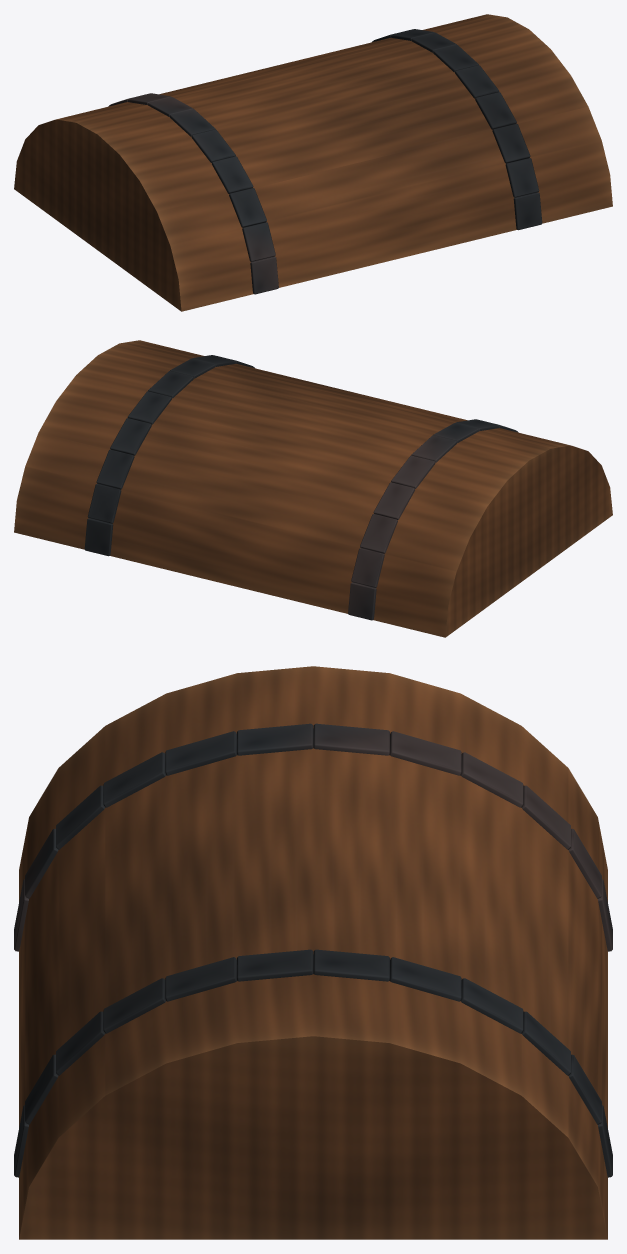
Rendered from Furn_Dun_Chest_Lid.fbx.
The picture shows the model from 3 angles, top to bottom: view 1: azimuth 30°, elevation 25°; view 2: azimuth 150°, elevation 25°; view 3: azimuth 270°, elevation 25°; orthographic projection. The views are drawn at different scales.
Visible parts, largest first — view 1: Furn_Dun_Chest_Lid; view 2: Furn_Dun_Chest_Lid; view 3: Furn_Dun_Chest_Lid.
Boxes of the visible parts, x1=… form: Furn_Dun_Chest_Lid: x1=14, y1=14, x2=612, y2=311; Furn_Dun_Chest_Lid: x1=14, y1=340, x2=612, y2=637; Furn_Dun_Chest_Lid: x1=14, y1=666, x2=612, y2=1239.
Bounding box in the file's own units: 0.95 × 0.25 × 0.65.
Materials: 2 (2 with a texture image).
